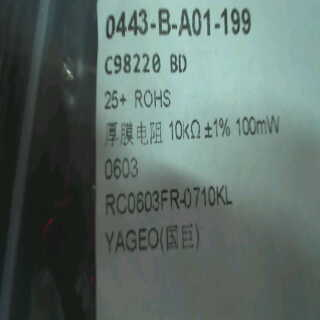10kR: (165, 117, 202, 145)
